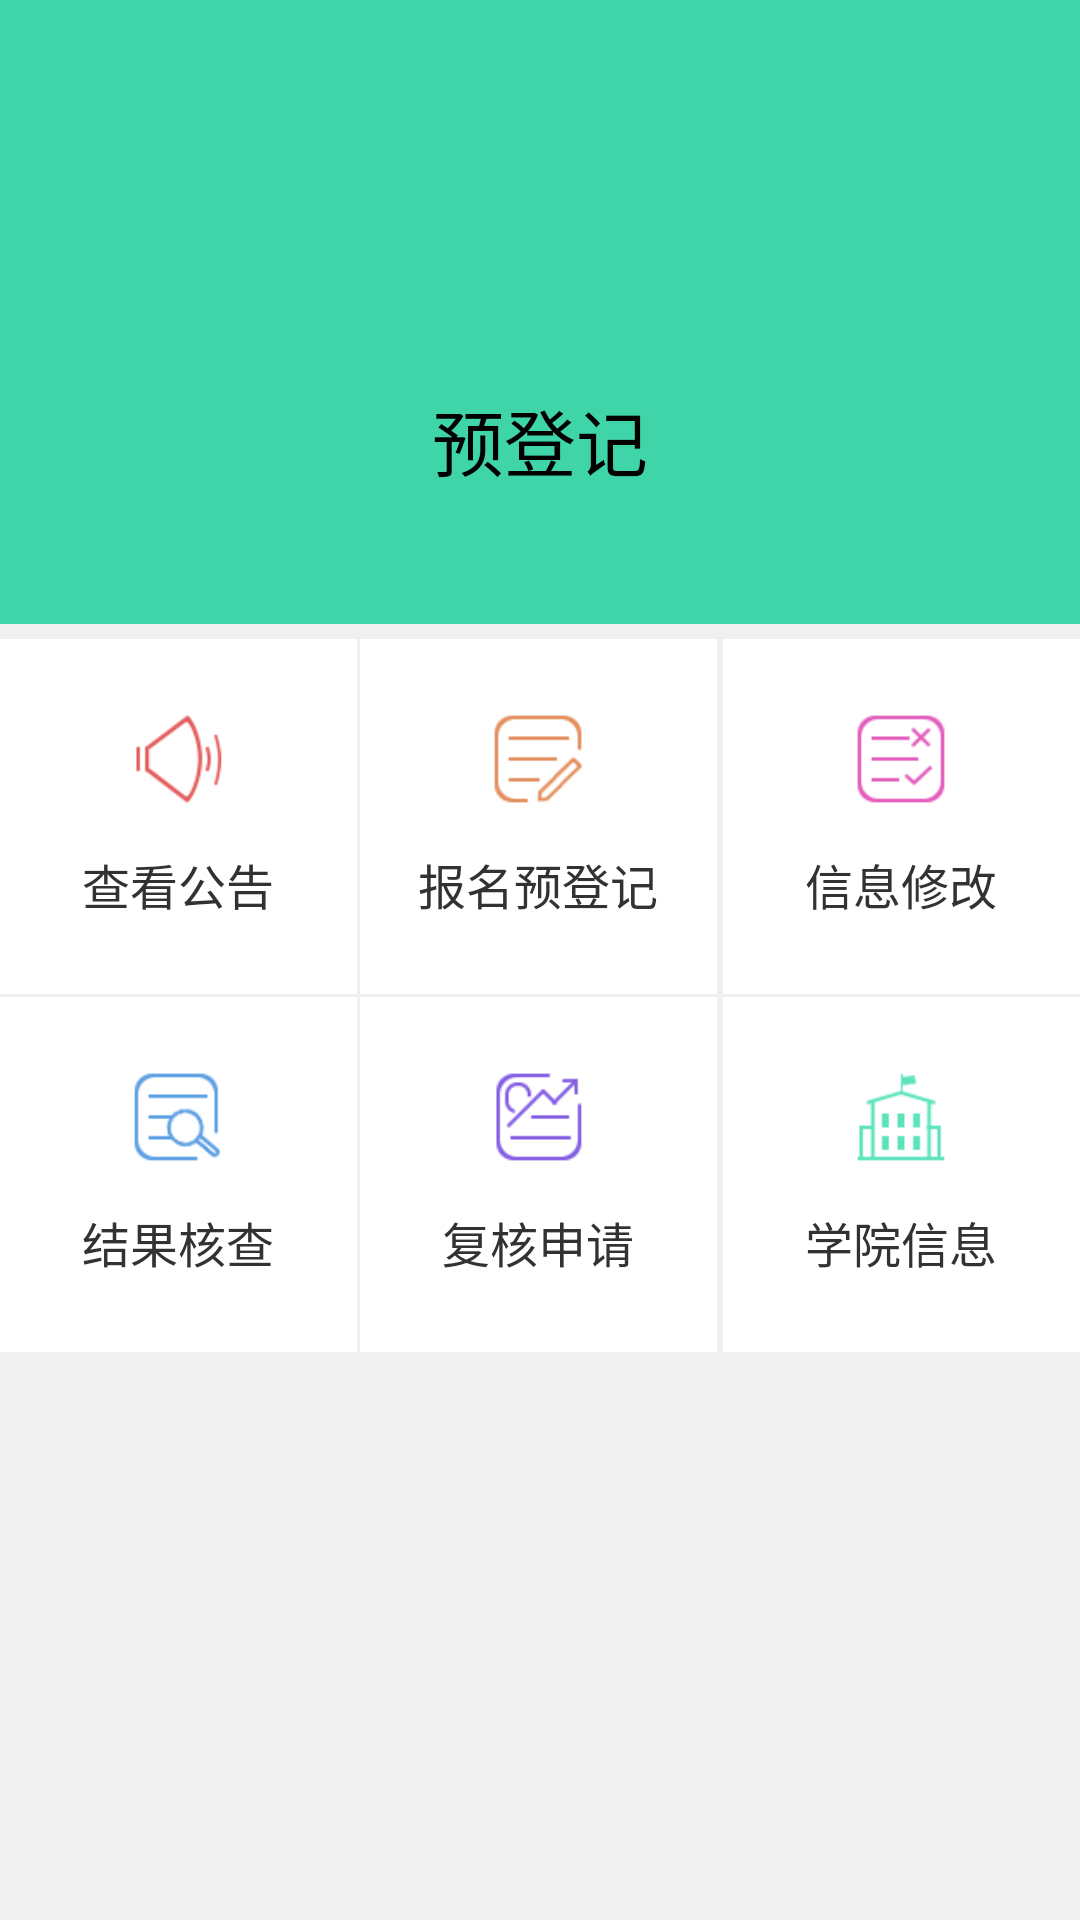

Named icons in this screenshot (1080x1920) and their bounding boxes, region(x1, y1, x2, y2):
gonggao: region(136, 715, 222, 803)
hecha: region(134, 1073, 220, 1161)
xiugai: region(857, 715, 945, 803)
xuexiao: region(857, 1073, 945, 1161)
